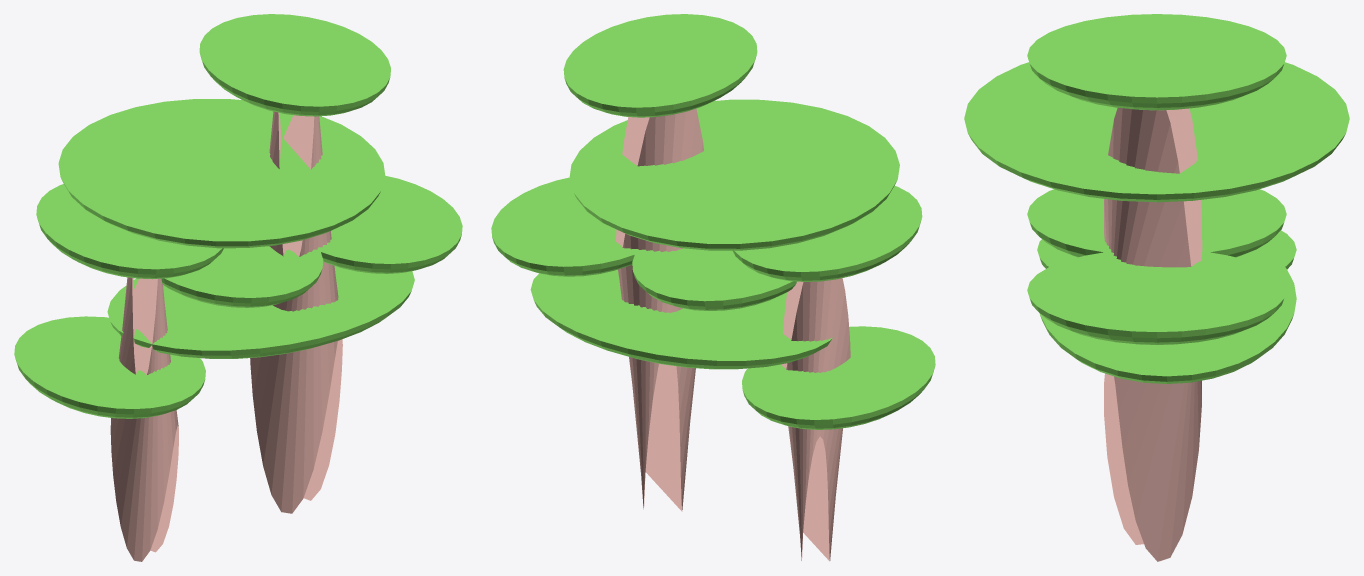
Rendered from BTTrees.fbx.
3 views of the same model, side by side, from view 1: azimuth 30°, elevation 25°; view 2: azimuth 150°, elevation 25°; view 3: azimuth 270°, elevation 25° (orthographic). The views are drawn at different scales.
Visible parts, largest first — view 1: BTTrees1; view 2: BTTrees1; view 3: BTTrees1.
Boxes of the visible parts, bbox=[...] form: BTTrees1: bbox=[14, 14, 462, 561]; BTTrees1: bbox=[491, 14, 935, 561]; BTTrees1: bbox=[964, 14, 1349, 561].
Size of the model in its own units: 1336 by 1443 by 984.
